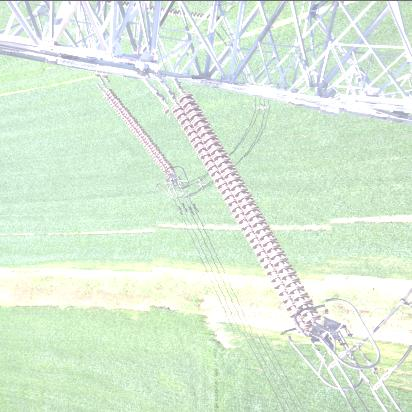insulator: (154, 79, 337, 335), (100, 79, 175, 185)
